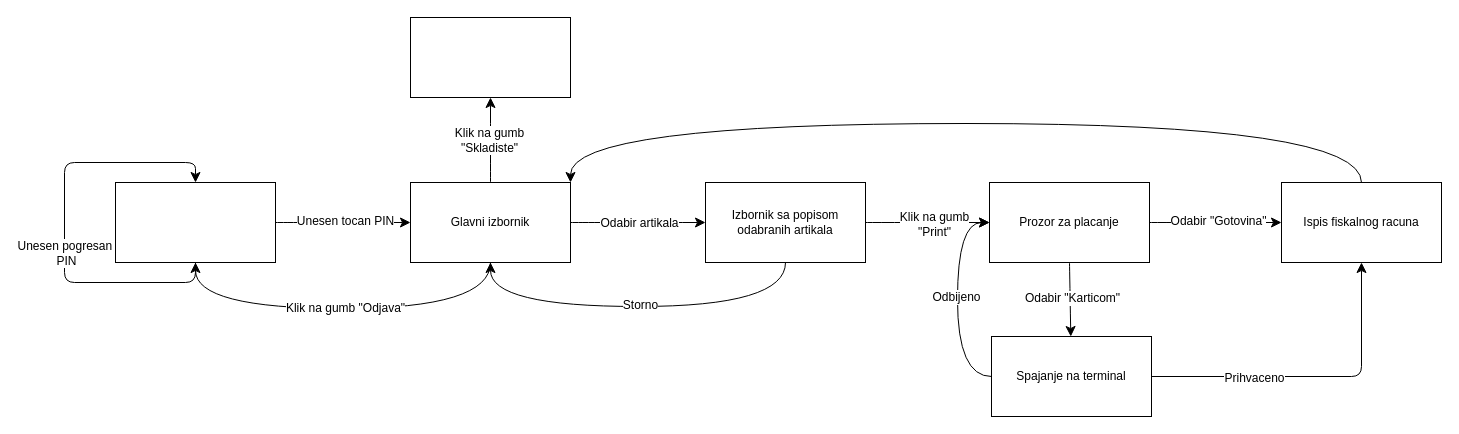
Image size: 1459x434. Some labels were removed from this diagram. Here are the shapes that lost their labels. From the top down, the box of each, then its label:
(410, 16, 570, 98): Upravljanje zalihama
(114, 182, 276, 262): Ekran prijave
